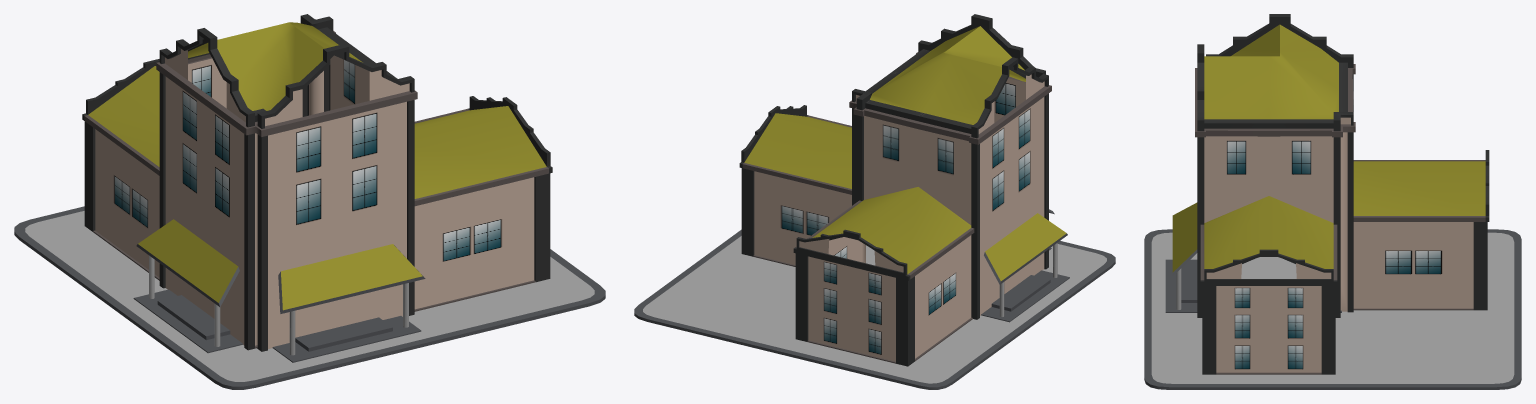
File: Mafia_QG.fbx
3 renders of one model, left to right at view 1: azimuth 30°, elevation 25°; view 2: azimuth 150°, elevation 25°; view 3: azimuth 270°, elevation 25°, orthographic. The views are drawn at different scales.
Parts seen in each view (by area): view 1: Mafia_QG; view 2: Mafia_QG; view 3: Mafia_QG.
Boxes of the visible parts, x1,y1,x2,y2 form: Mafia_QG: (14, 14, 605, 389); Mafia_QG: (634, 14, 1115, 389); Mafia_QG: (1144, 14, 1521, 389).
Size of the model in its own units: 91.56 by 65.14 by 92.62.
